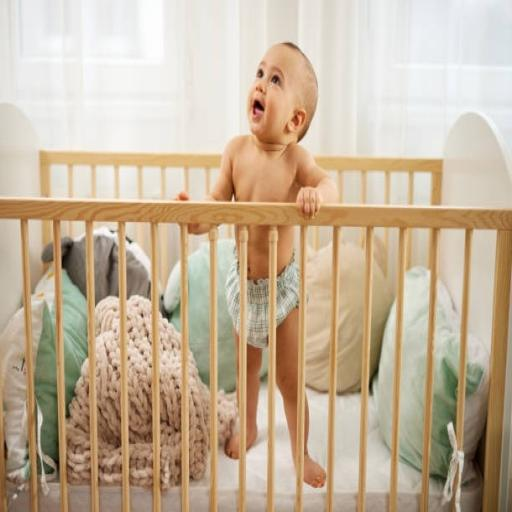baby: (277, 226, 325, 486)
crib: (0, 106, 511, 510)
